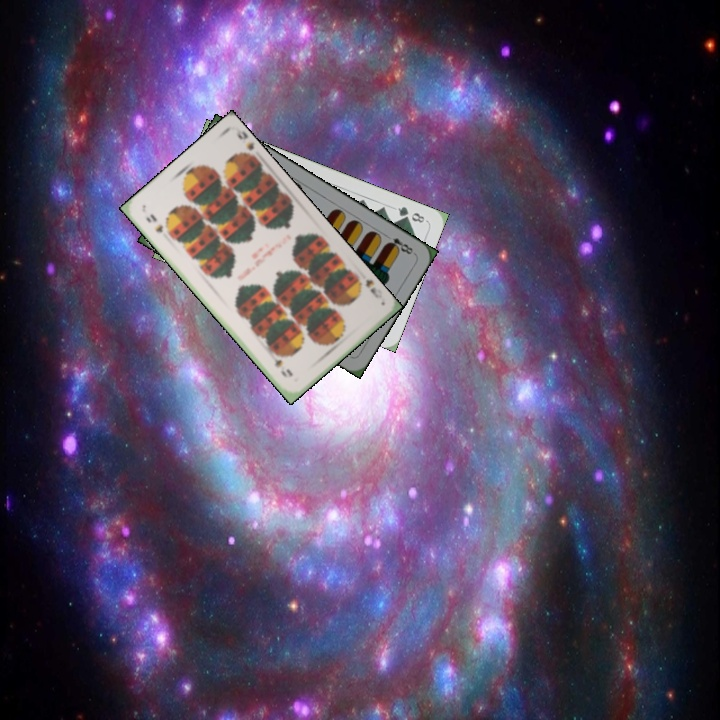E8: (382, 230, 417, 257)
G8: (393, 202, 427, 225)
S9: (350, 271, 385, 301), (142, 210, 166, 235)
